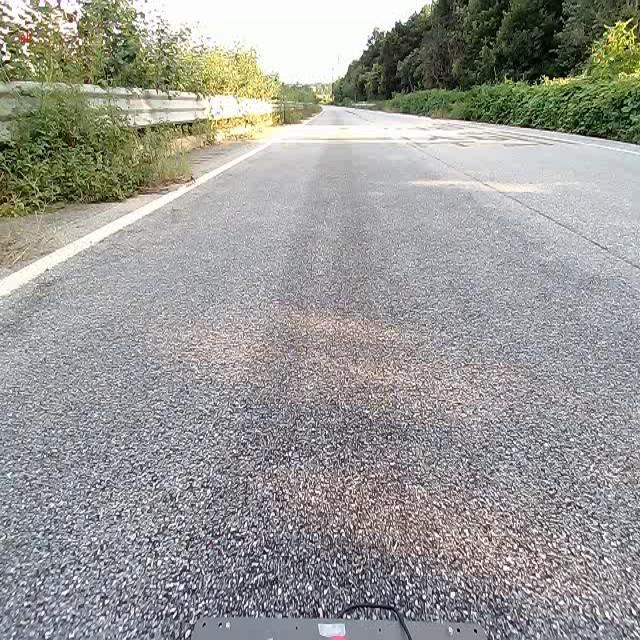Lane: (0, 132, 280, 306), (0, 137, 271, 303)
